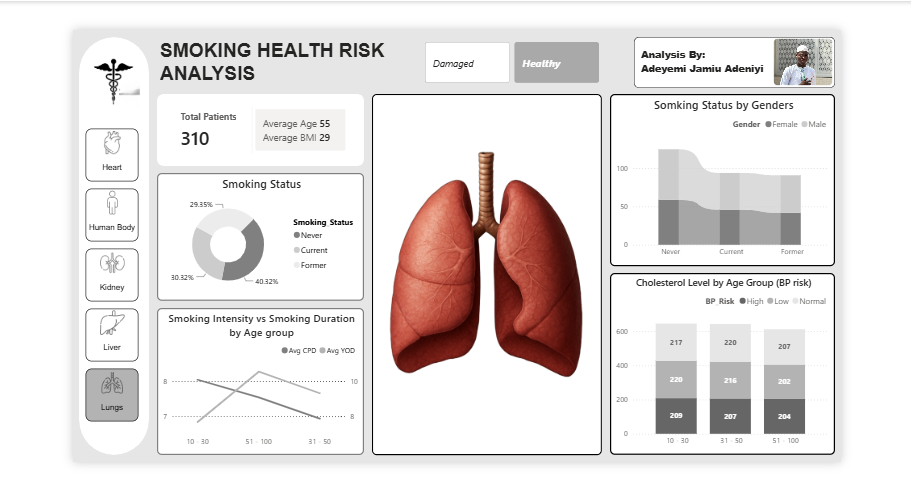

Layout of this report page (visuals, bound fields, positions):
{"tool":"powerbi","page":{"name":"Page 1","canvas":[1280,720],"ordinal":0},"visuals":[{"type":"shape","box":[10,11.7,116.7,696.7],"z":0},{"type":"shape","box":[140,106.7,345,120],"z":1000},{"type":"advancedSlicerVisual","fields":{"Values":["condition.Organ_Condition"]},"box":[581.7,15,300,78.3],"z":2000},{"type":"image","box":[498.3,106.7,383.3,601.7],"z":3000},{"type":"ChicletSlicer1448559807354","fields":{"Category":["Organs.Organ"],"Image":["Organs.Icon_URL"]},"box":[10.1,154.1,116.6,512.6],"z":4000},{"type":"cardVisual","fields":{"Data":["Count(health_dataset.Patient_ID)"]},"box":[150,110,326.7,113.3],"z":5000},{"type":"donutChart","title":"Smoking Status","fields":{"Category":["health_dataset.Smoking_Status"],"Y":["CountNonNull(health_dataset.Smoking_Status)"]},"box":[140,238.3,345,213.3],"z":6000},{"type":"lineChart","title":"Smoking Intensity vs Smoking Duration by Age group","fields":{"Category":["health_dataset.Age groups"],"Y":["Avg(health_dataset.Cigarettes_Per_Day)"],"Y2":["Avg(health_dataset.Years_of_Smoking)"]},"box":[140,463.3,345,245],"z":7000},{"type":"ribbonChart","title":"Somking Status by Genders","fields":{"Category":["health_dataset.Smoking_Status"],"Series":["health_dataset.Gender"],"Y":["CountNonNull(health_dataset.Gender)"]},"box":[895,106.7,375,286.7],"z":8000},{"type":"columnChart","title":"Cholesterol Level by Age Group (BP risk)","fields":{"Series":["health_dataset.BP_Risk"],"Category":["health_dataset.Age groups"],"Y":["Avg(health_dataset.Cholesterol_Level)"]},"box":[895,405,375,303.3],"z":9000},{"type":"image","box":[23.3,38.3,88.3,93.3],"z":10000},{"type":"textbox","box":[140,11.7,403.3,85],"z":11000},{"type":"shape","box":[935,11.7,335,85],"z":11500},{"type":"image","box":[1166,14,100,80],"z":12000},{"type":"textbox","box":[942,23.3,218.3,61.7],"z":14000}]}

Visuals, with their boxes on the page's 1280x720 design canvas (x1, y1, x2, y2). These are canvas units, not pixel positions in the 911x479 screenshot, which may show the page scaled, cropped or inside an application window:
shape: bbox=(10, 12, 127, 708)
shape: bbox=(140, 107, 485, 227)
advancedSlicerVisual - condition.Organ_Condition: bbox=(582, 15, 882, 93)
image: bbox=(498, 107, 882, 708)
ChicletSlicer1448559807354 - Organs.Organ x Organs.Icon_URL: bbox=(10, 154, 127, 667)
cardVisual - Count(health_dataset.Patient_ID): bbox=(150, 110, 477, 223)
"Smoking Status" donutChart: bbox=(140, 238, 485, 452)
"Smoking Intensity vs Smoking Duration by Age group" lineChart: bbox=(140, 463, 485, 708)
"Somking Status by Genders" ribbonChart: bbox=(895, 107, 1270, 393)
"Cholesterol Level by Age Group (BP risk)" columnChart: bbox=(895, 405, 1270, 708)
image: bbox=(23, 38, 112, 132)
textbox: bbox=(140, 12, 543, 97)
shape: bbox=(935, 12, 1270, 97)
image: bbox=(1166, 14, 1266, 94)
textbox: bbox=(942, 23, 1160, 85)
